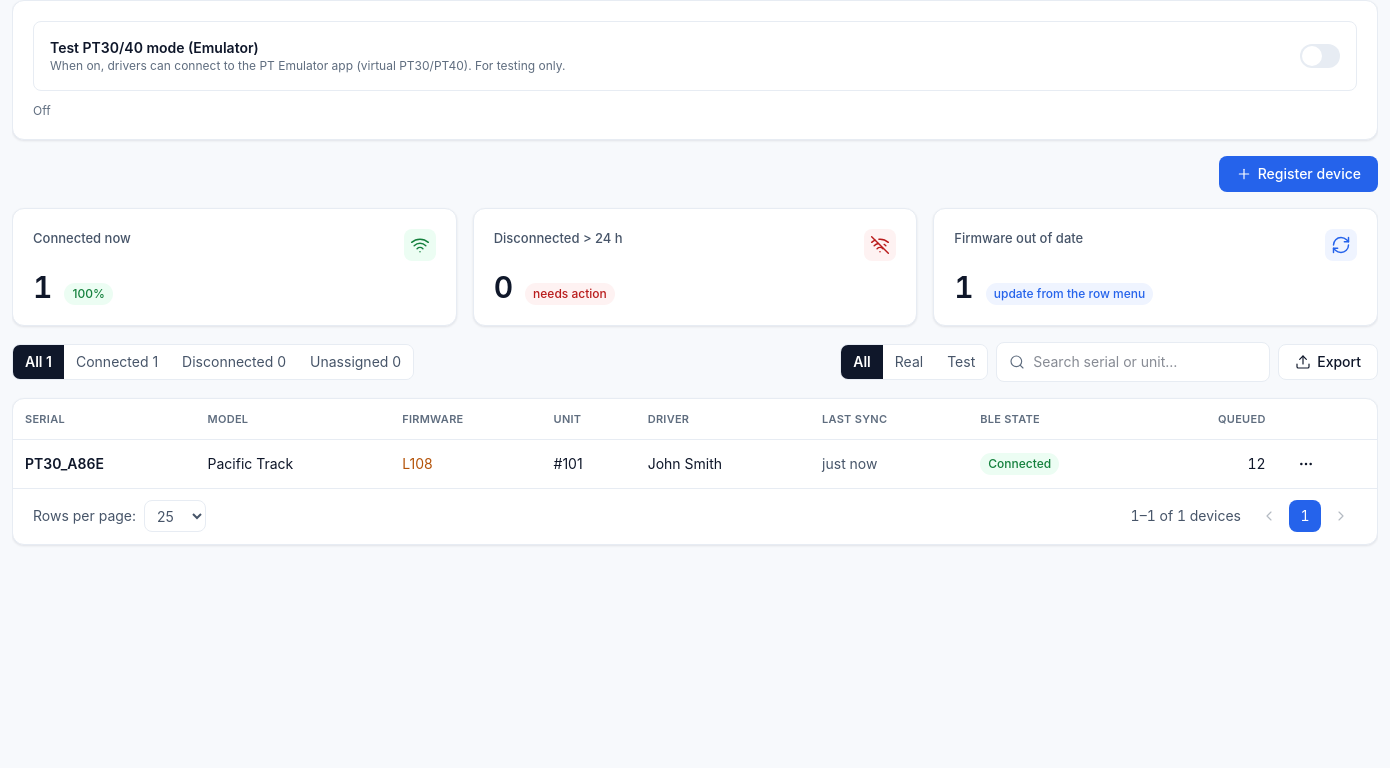
Scenario: DevicesPage — W-20 › unpairs a device from the row menu
The image size is (1390, 768).
Expected: the text "PT30_A86E" is shown, [25,454,104,474]
Click the button named "Row actions" at (1306, 464), box [1290,448,1322,480]
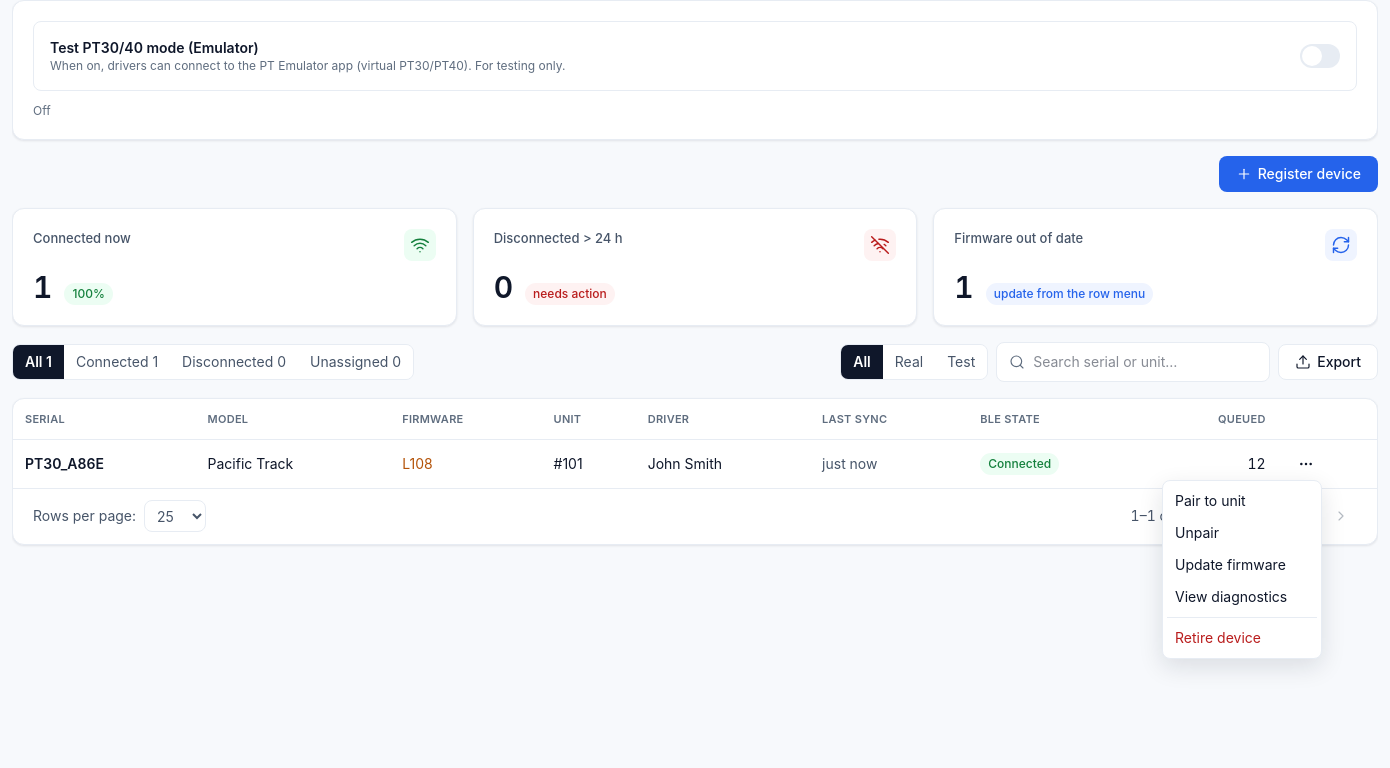
Click the menu item "Unpair" at (1197, 532), box [1175,524,1219,541]
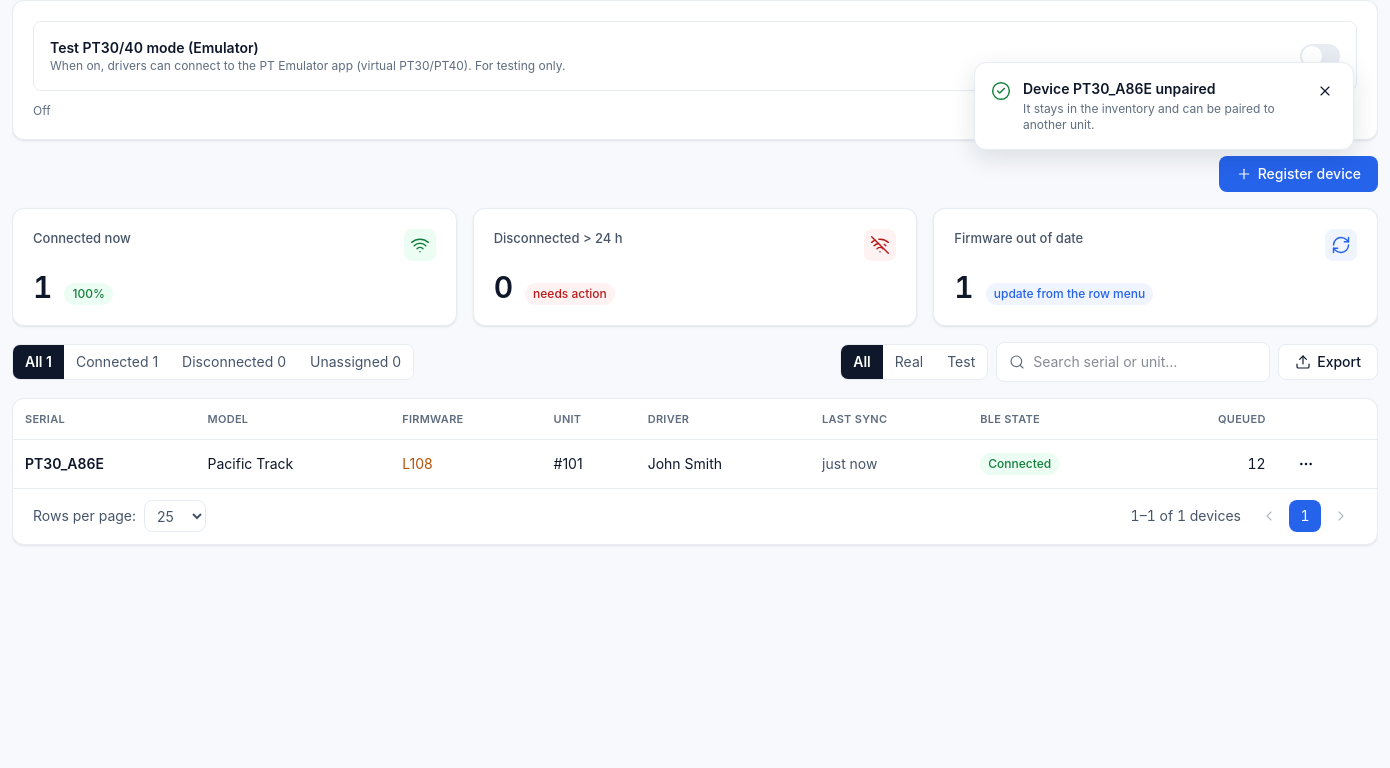
Now the text "Device PT30_A86E unpaired" is shown, box [1023,80,1215,97]
